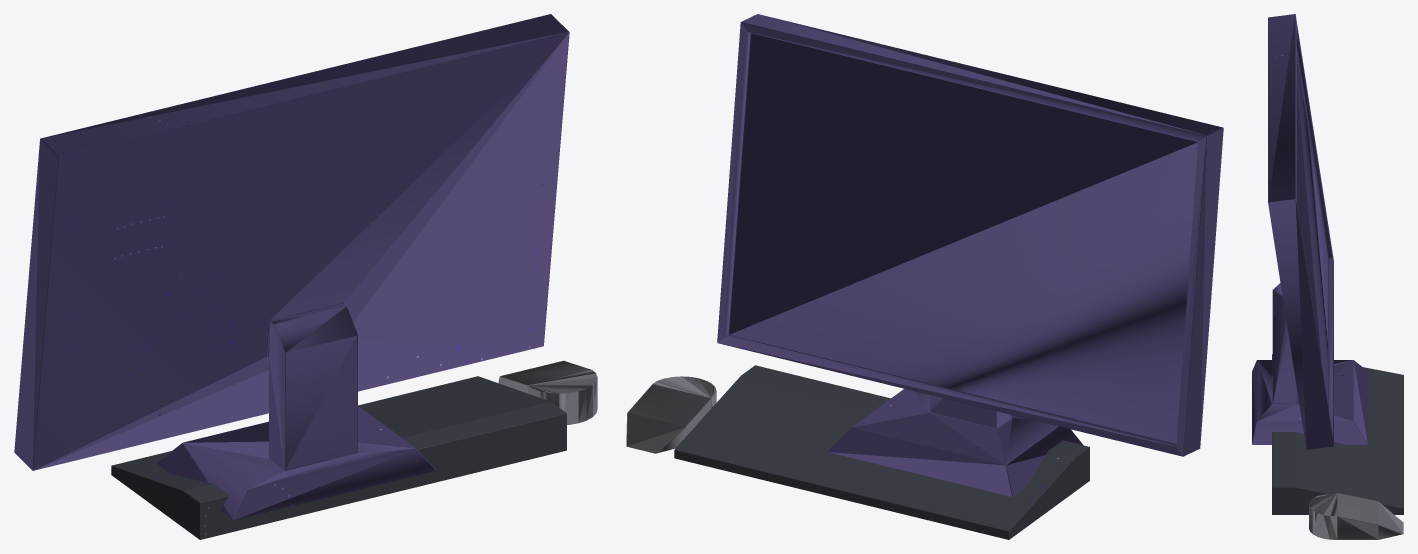
Rendered from compute-monitor-set.glb.
3 views of the same model, side by side, from view 1: azimuth 30°, elevation 25°; view 2: azimuth 150°, elevation 25°; view 3: azimuth 270°, elevation 25° (orthographic). The views are drawn at different scales.
Parts seen in each view (by area): view 1: mesh_compute-monitor-set; view 2: mesh_compute-monitor-set; view 3: mesh_compute-monitor-set.
Part boxes in pixels (x1,y1,x2,y2): mesh_compute-monitor-set: (14,14,597,539); mesh_compute-monitor-set: (626,14,1223,539); mesh_compute-monitor-set: (1252,14,1403,539).
Bounding box in the file's own units: 4.46 × 3.12 × 1.36.
Materials: 1 (1 with a texture image).
